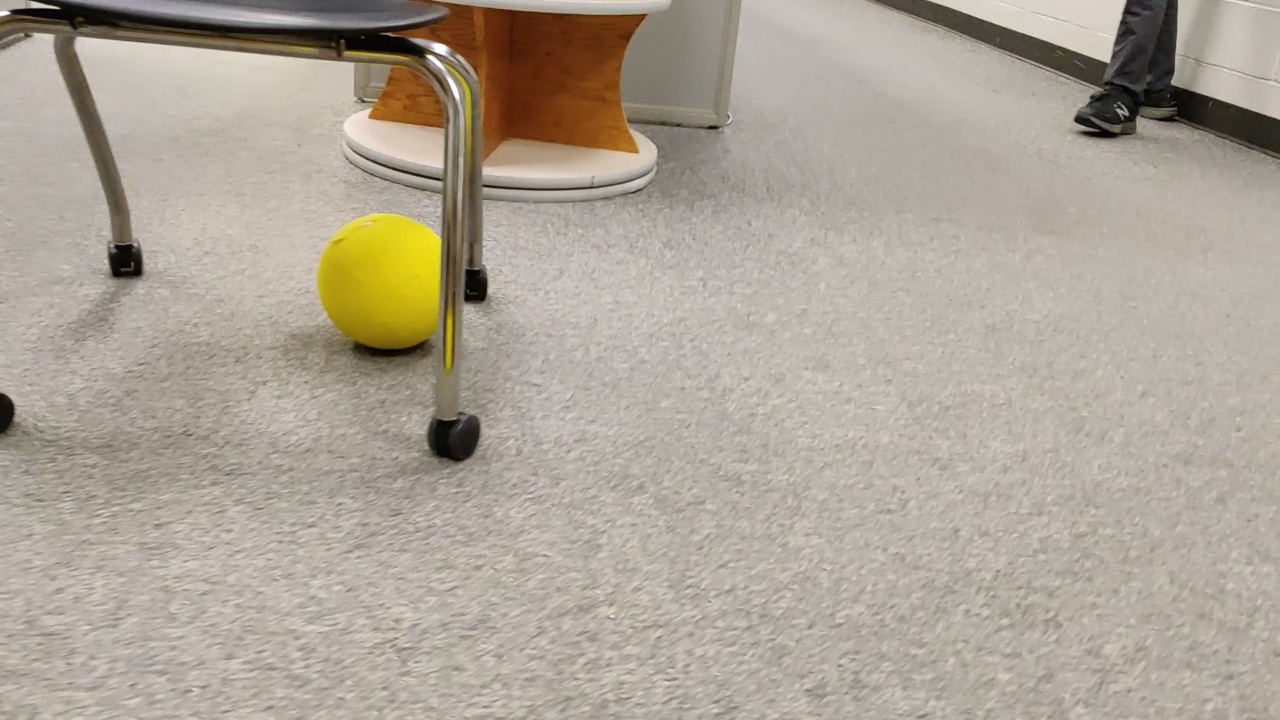Ball: (316, 212, 455, 352)
